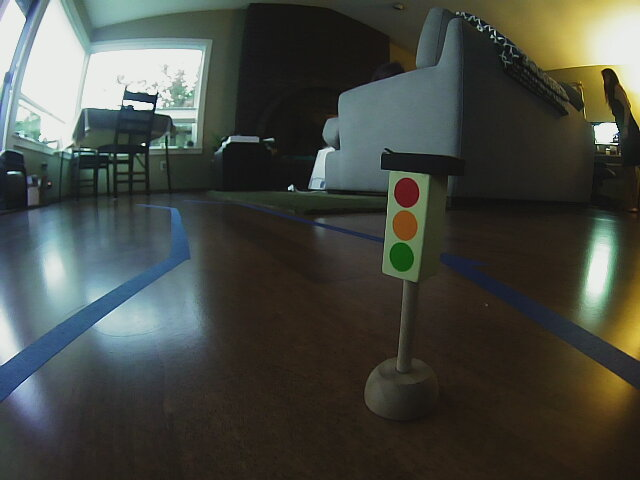TrafficLight: (374, 151, 455, 283)
